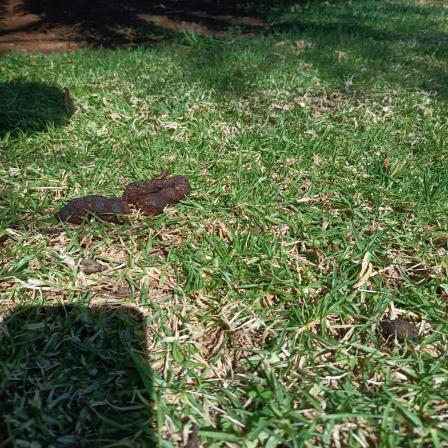dog-poop: (51, 166, 202, 230), (378, 308, 428, 352)
